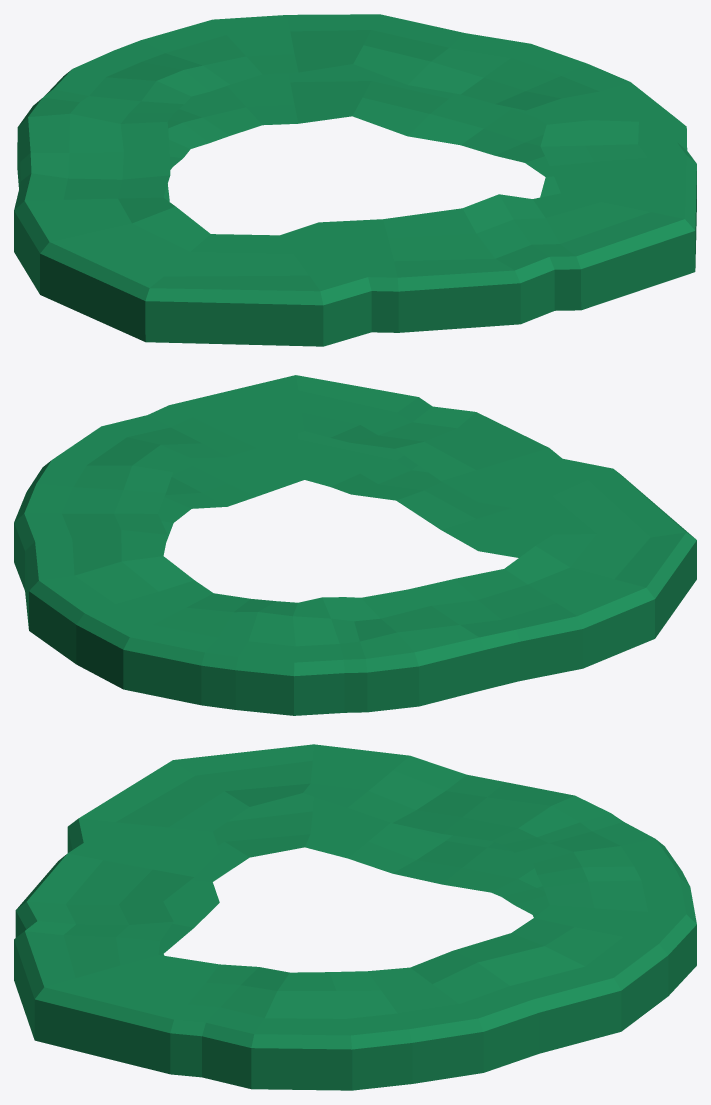
The model's file is mod_terrain02_p2.fbx.
3 views of the same model, one above another, from view 1: azimuth 30°, elevation 25°; view 2: azimuth 150°, elevation 25°; view 3: azimuth 270°, elevation 25° (orthographic). The views are drawn at different scales.
Parts seen in each view (by area): view 1: mod_terrain01_p2; view 2: mod_terrain01_p2; view 3: mod_terrain01_p2.
Part boxes in pixels (x1,y1,x2,y2): mod_terrain01_p2: [14, 14, 696, 346]; mod_terrain01_p2: [14, 375, 696, 715]; mod_terrain01_p2: [14, 744, 696, 1090].
Size of the model in its own units: 3818 by 385 by 3670.
